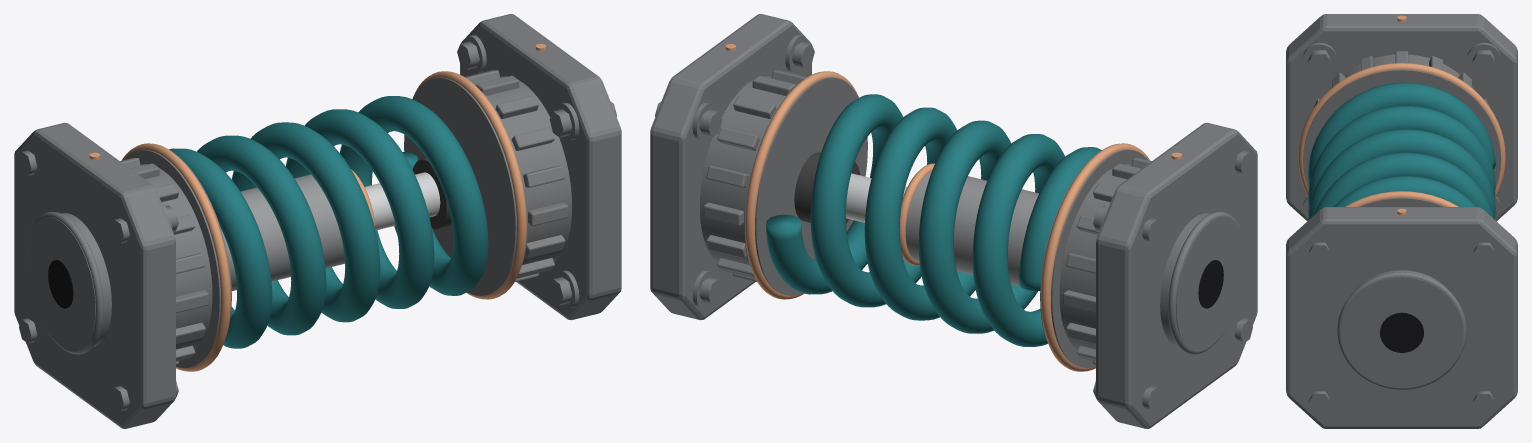
File: sport_suspension_1.glb
The picture shows the model from 3 angles, left to right: view 1: azimuth 30°, elevation 25°; view 2: azimuth 150°, elevation 25°; view 3: azimuth 270°, elevation 25°; orthographic projection. The views are drawn at different scales.
Parts seen in each view (by area): view 1: Stator, mountFlex, mount; view 2: mountFlex, Stator, mount; view 3: mount, Stator, mountFlex.
Part boxes in pixels (x1,y1,x2,y2): Stator: (14,122,231,428); mountFlex: (169,96,488,348); mount: (404,14,621,320); mountFlex: (766,94,1101,346); Stator: (1040,122,1257,428); mount: (650,14,867,320); mount: (1286,191,1517,428); Stator: (1286,14,1517,221); mountFlex: (1308,82,1495,219).
Size of the model in its own units: 0.501 by 0.2225 by 0.22.
